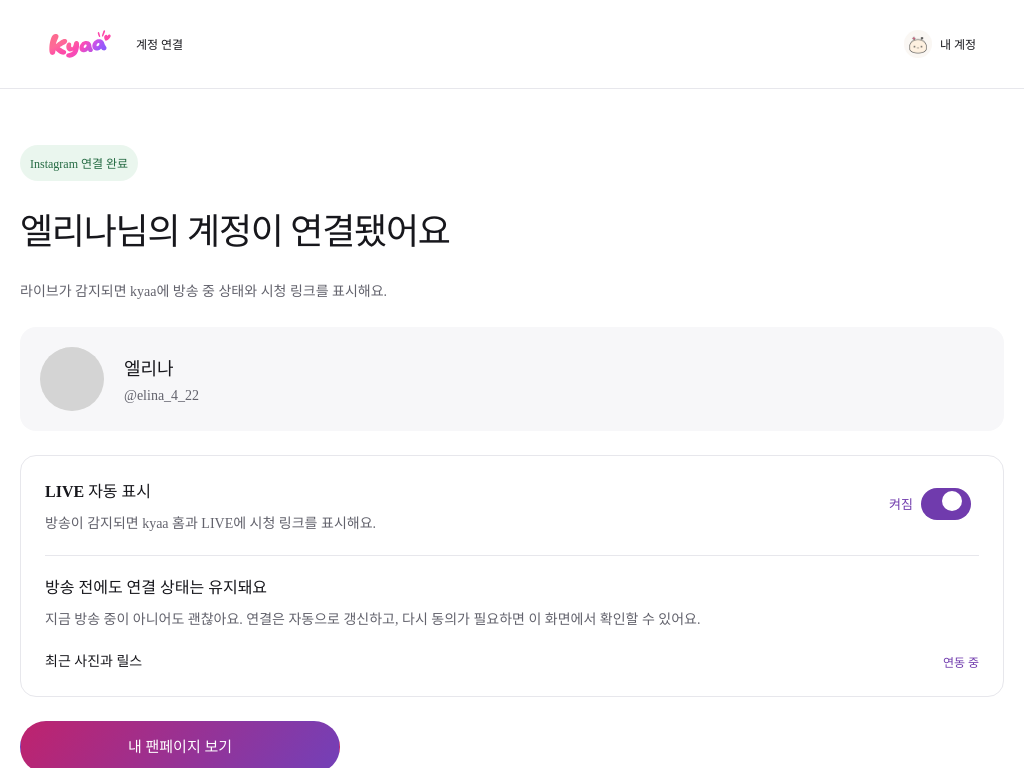
Scenario: Creator Instagram connection › keeps prior preference on save failure and reports an actionable error
Click the switch at [930, 504], box [881,480,979,528]
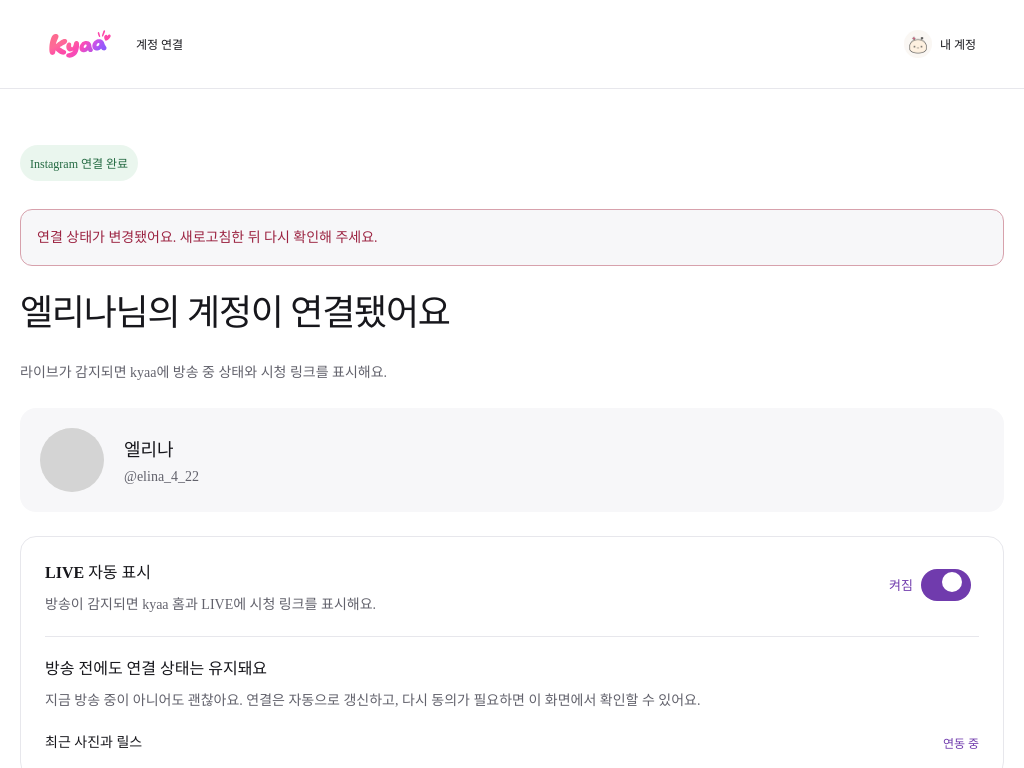
expect the message shows "새로고침": met, box [37,230,378,245]
